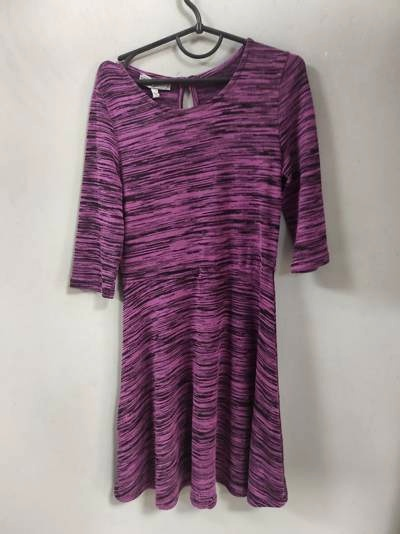Dress: (52, 33, 354, 521)
